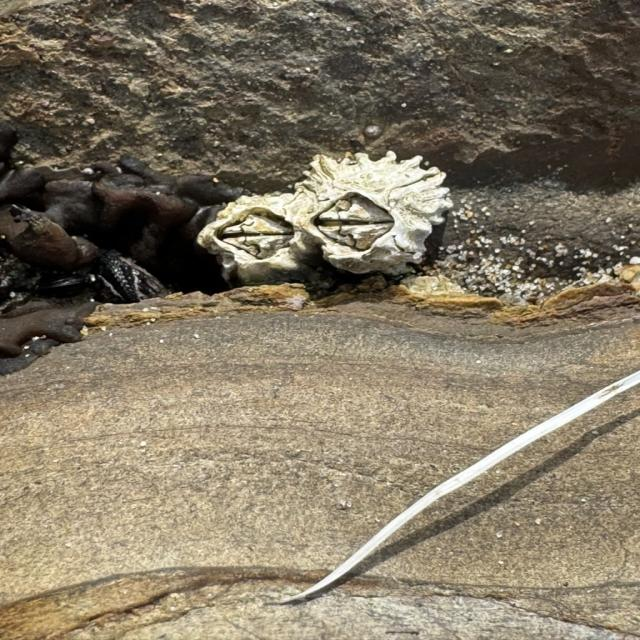barnacles: (294, 145, 452, 290), (192, 173, 298, 283)
